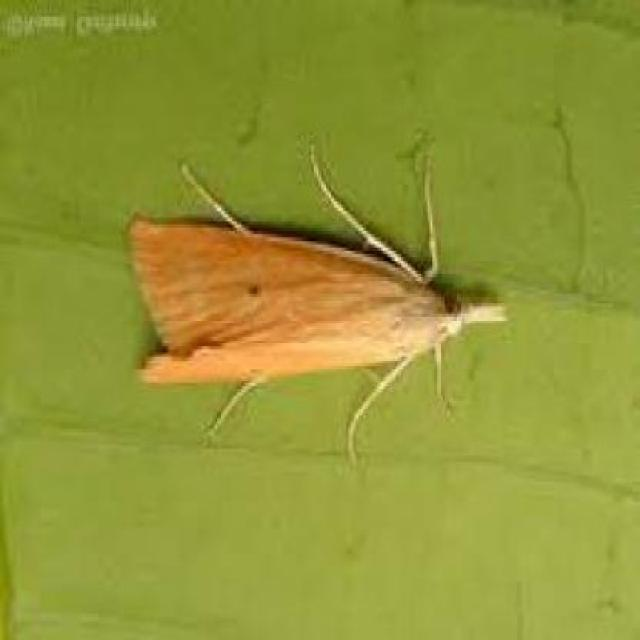stem-borer: (122, 155, 507, 473)
